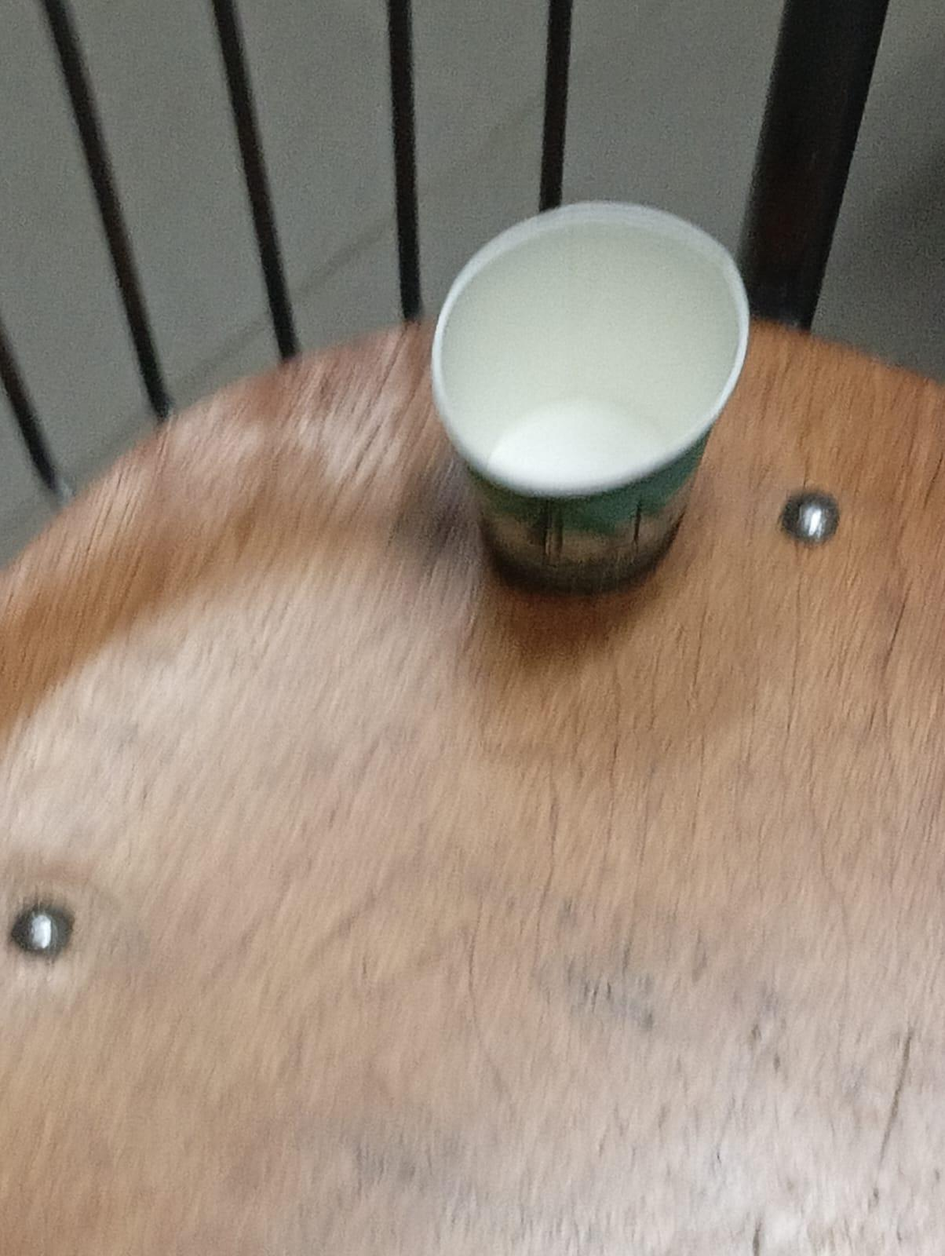cup: (432, 203, 748, 590), (447, 227, 725, 473), (564, 223, 736, 386)
